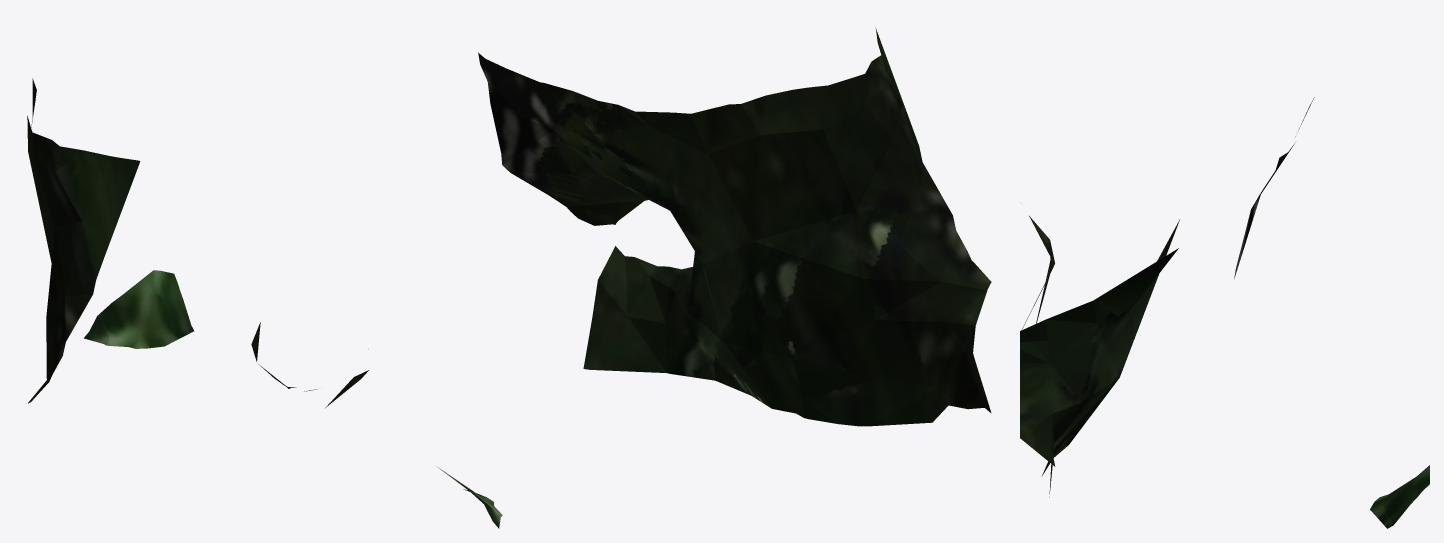
3 views of the same model, side by side, from view 1: azimuth 30°, elevation 25°; view 2: azimuth 150°, elevation 25°; view 3: azimuth 270°, elevation 25° (orthographic). The views are drawn at different scales.
Bounding box in the file's own units: 0.8374 × 0.8374 × 0.8373.
3 materials, 3 textured.
